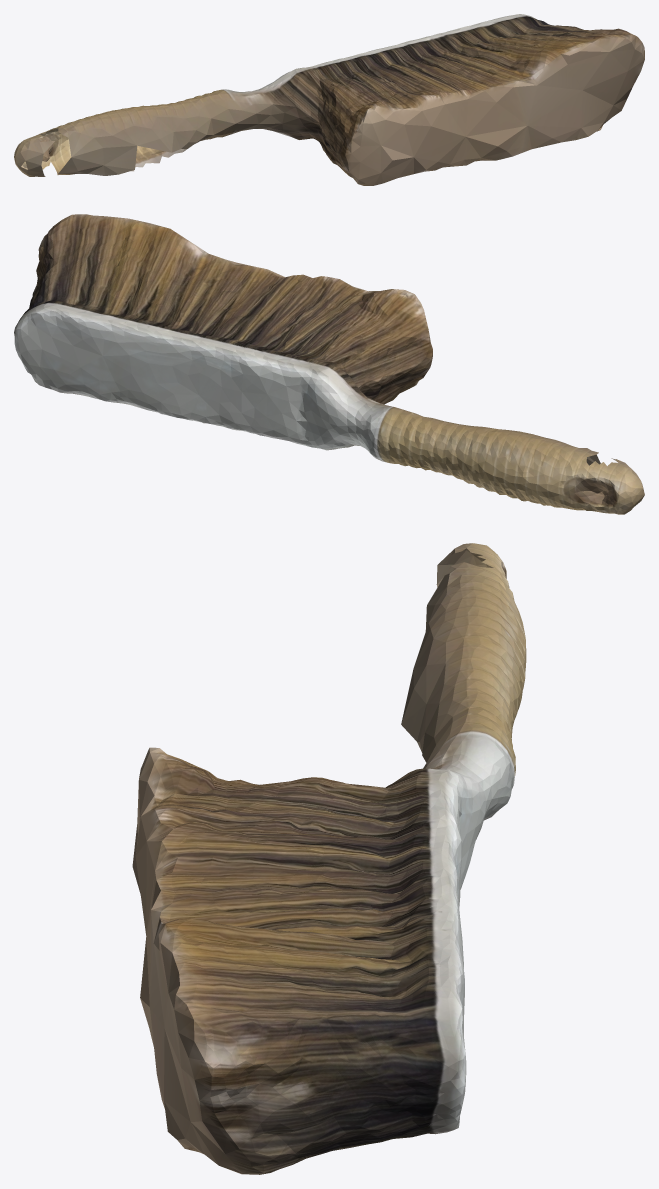
File: brush_scanned.obj
The picture shows the model from 3 angles, top to bottom: view 1: azimuth 30°, elevation 25°; view 2: azimuth 150°, elevation 25°; view 3: azimuth 270°, elevation 25°; orthographic projection. The views are drawn at different scales.
Size of the model in its own units: 0.3066 by 0.0483 by 0.0926.
Materials: 1 (1 with a texture image).
